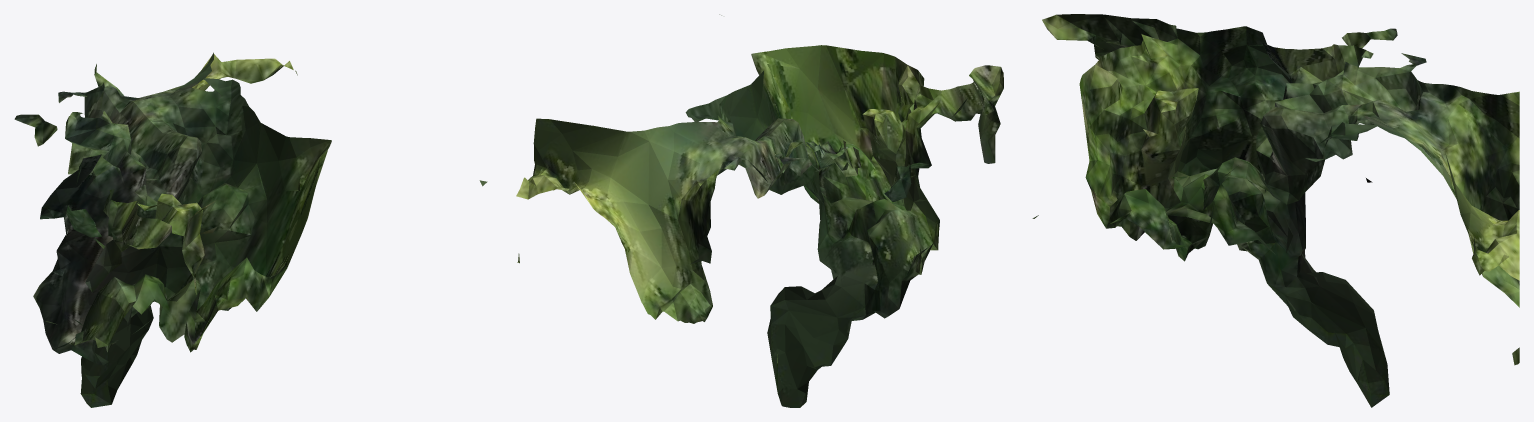
3 views of the same model, side by side, from view 1: azimuth 30°, elevation 25°; view 2: azimuth 150°, elevation 25°; view 3: azimuth 270°, elevation 25° (orthographic). The views are drawn at different scales.
Bounding box in the file's own units: 24.09 × 18.9 × 25.02.
Materials: 3 (3 with a texture image).
